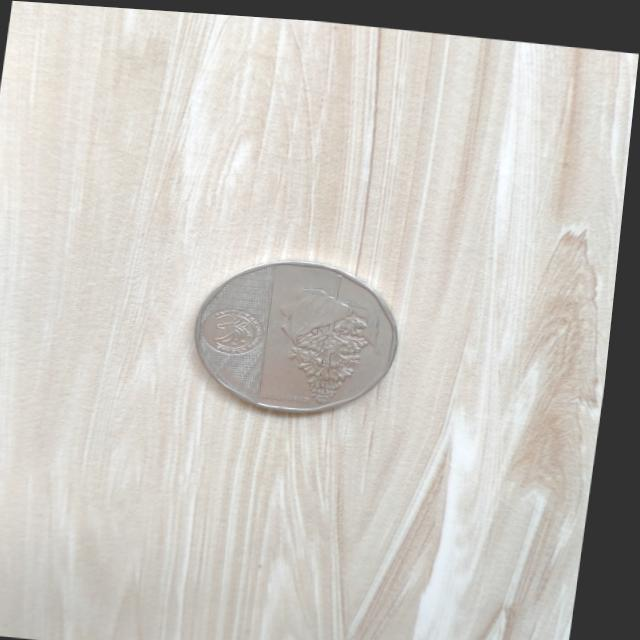10_New_Back: (274, 258, 393, 409)
